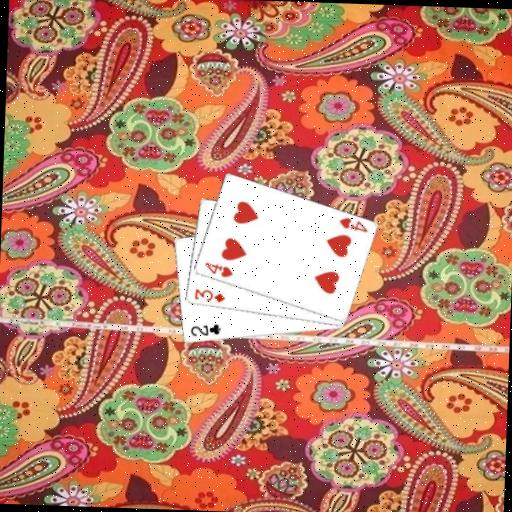2C: (186, 320, 222, 339)
3D: (191, 286, 227, 304)
4H: (201, 259, 234, 279), (335, 214, 368, 234)
